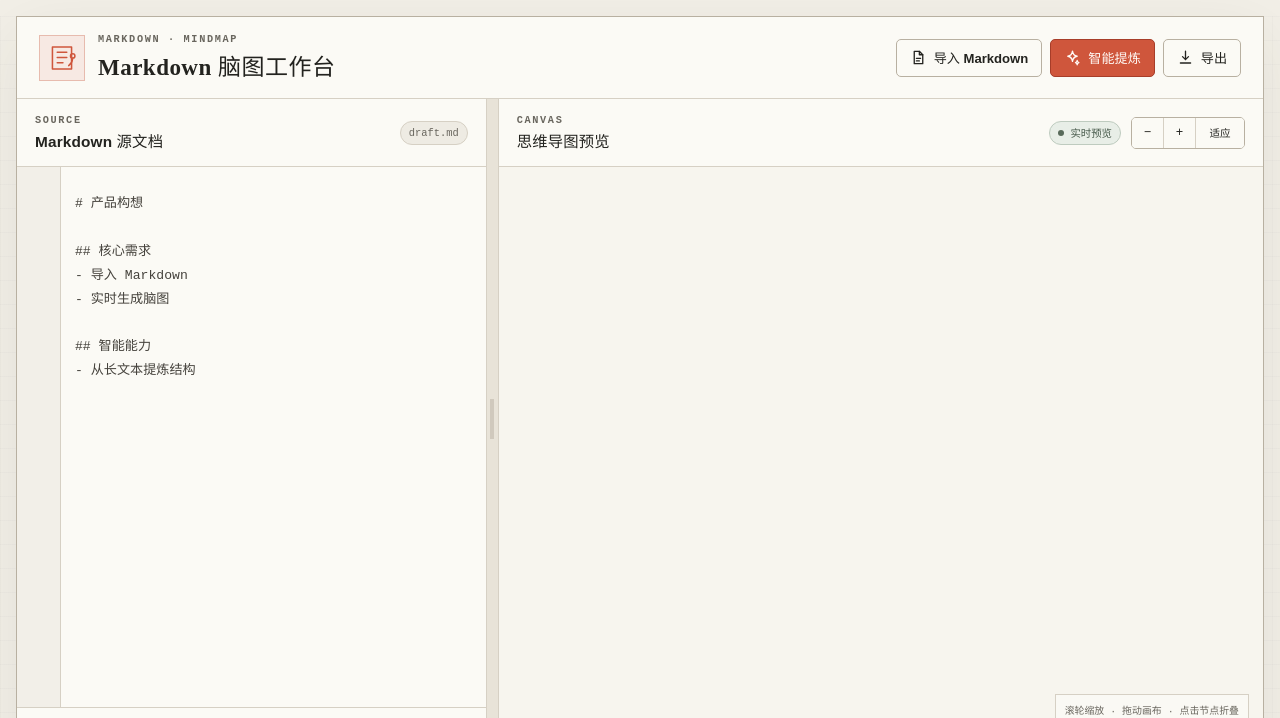
Test: 应用工作台 › 空文档时禁用脑图格式导出
Clear the text box named "Markdown 编辑器" at (251, 437), box [17, 167, 486, 707]
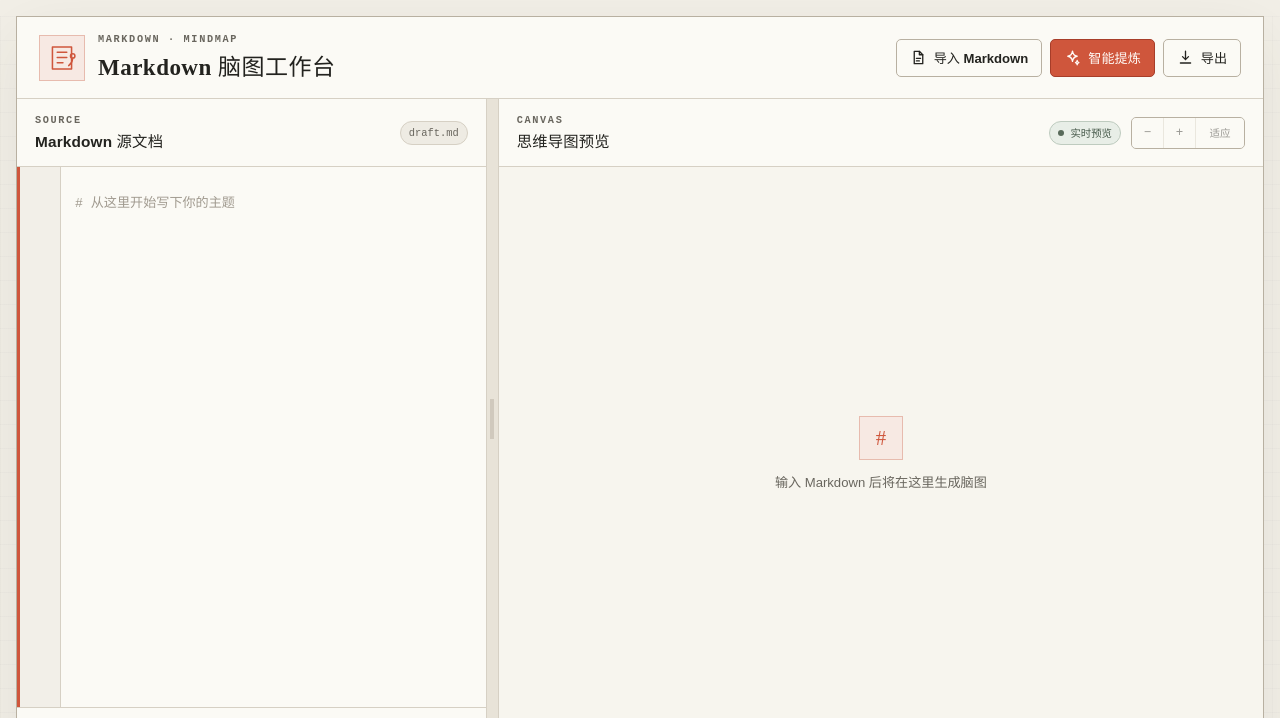
Click the button "导出".
click(1202, 58)  # box [1163, 38, 1241, 76]
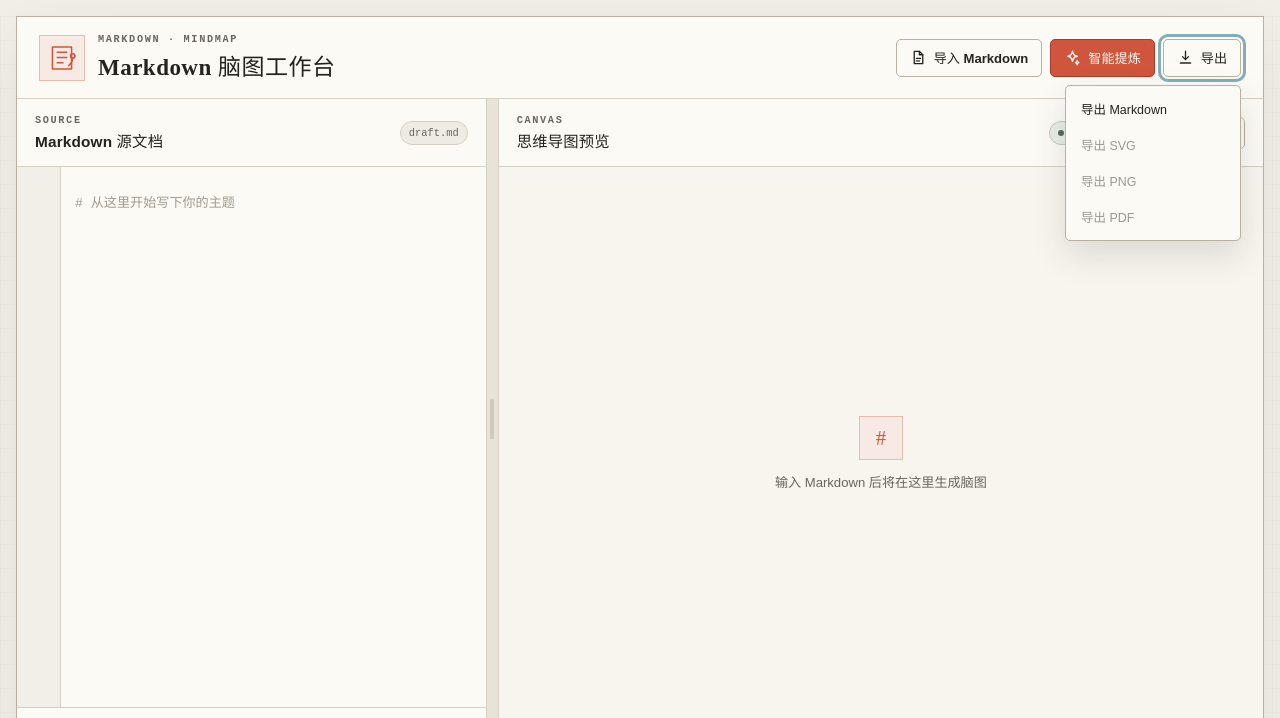
Check: the menu item "导出 Markdown" is enabled, box [1071, 90, 1235, 126]
Check: the menu item "导出 SVG" is disabled, box [1071, 126, 1235, 162]
Check: the menu item "导出 PNG" is disabled, box [1071, 162, 1235, 198]
